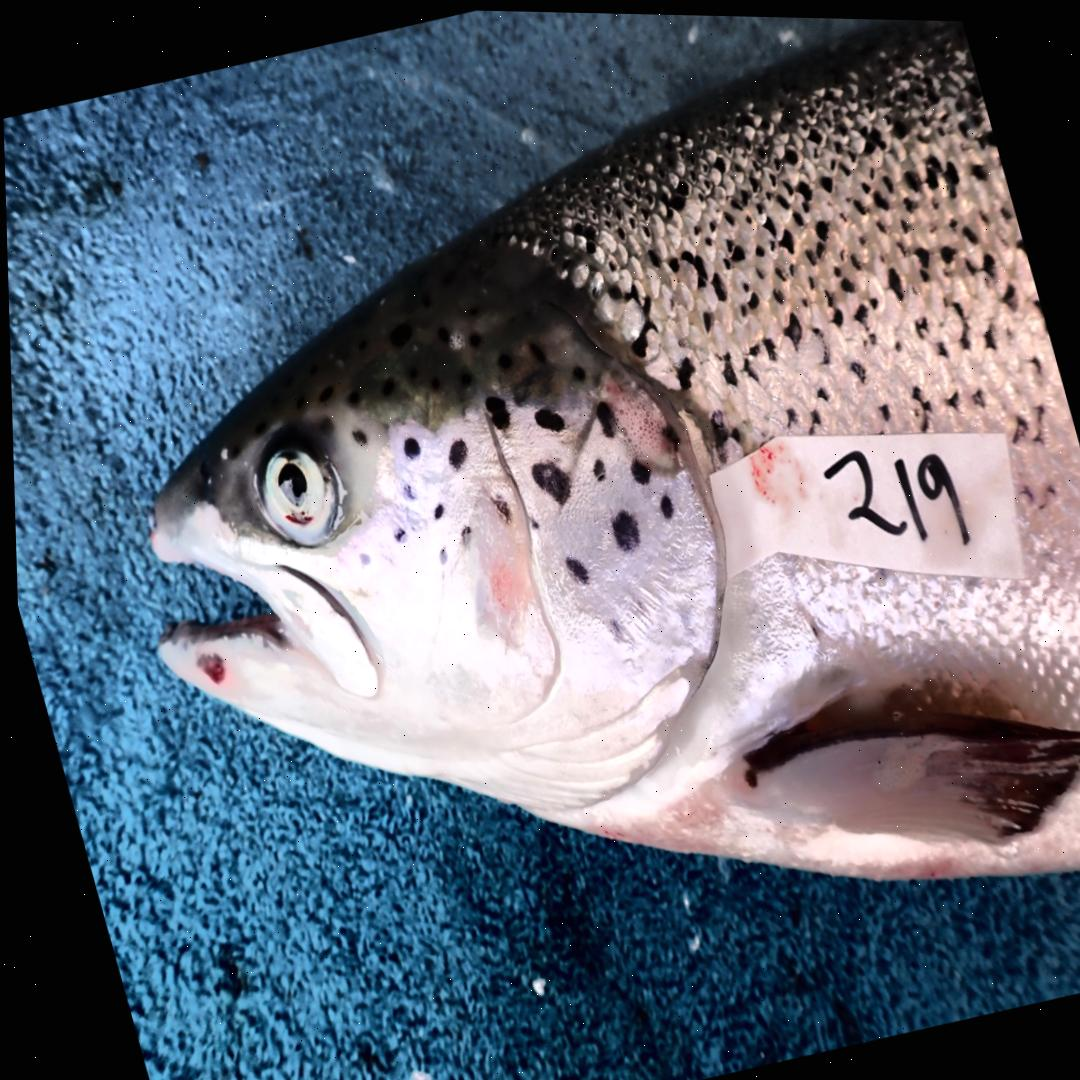spot: (528, 458, 568, 502), (608, 507, 637, 549), (482, 393, 507, 427), (593, 398, 615, 435), (531, 405, 563, 429), (445, 437, 465, 468), (562, 554, 585, 580), (627, 455, 648, 481), (658, 421, 677, 448), (488, 493, 508, 518), (602, 615, 622, 637), (400, 434, 418, 457), (656, 492, 671, 516), (590, 455, 603, 478), (390, 524, 405, 542), (457, 522, 468, 542), (400, 483, 413, 499), (434, 543, 444, 562), (355, 552, 367, 566), (431, 500, 441, 516), (525, 514, 536, 527)
